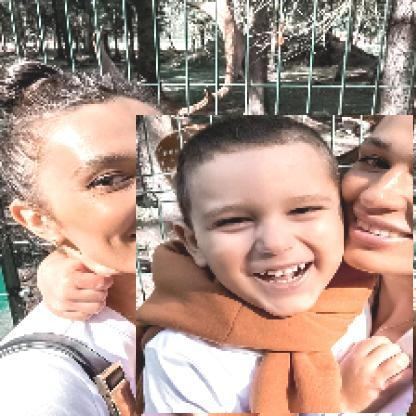child: (137, 116, 415, 415)
